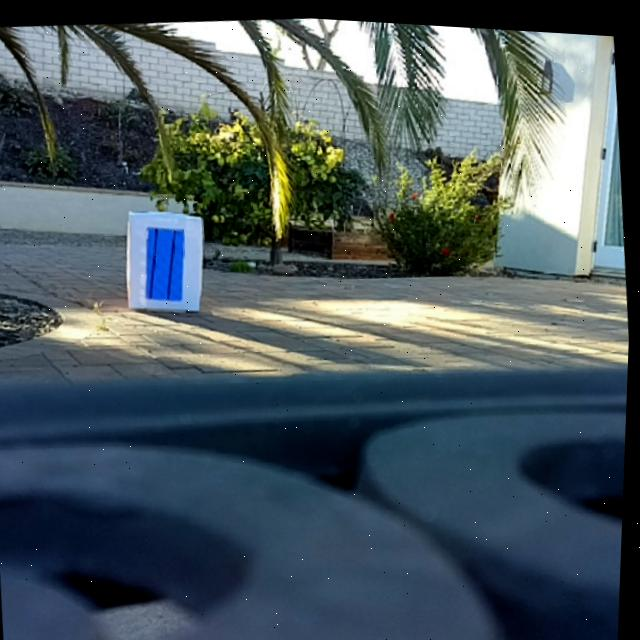led: (142, 221, 189, 303)
